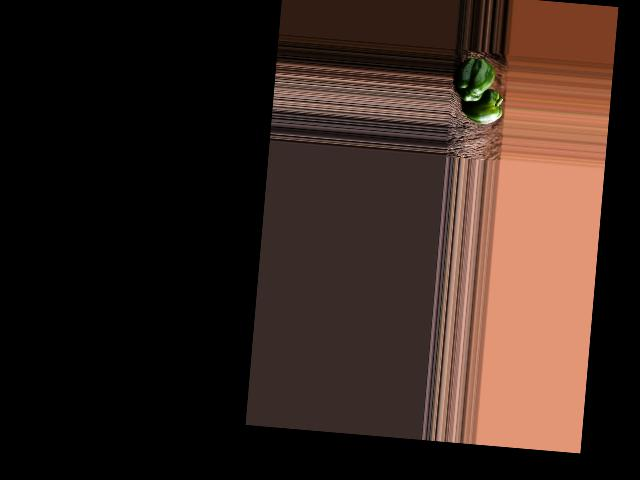bell_pepper: (455, 56, 497, 105)
